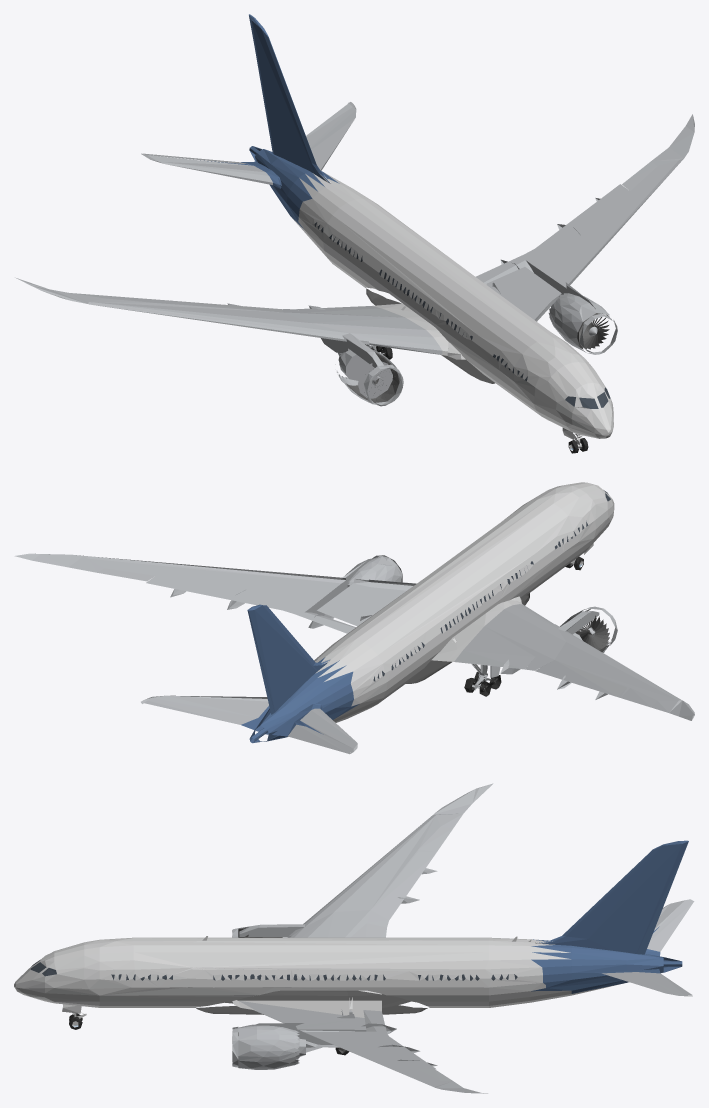
File: northstar-air.glb
3 views of the same model, one above another, from view 1: azimuth 30°, elevation 25°; view 2: azimuth 150°, elevation 25°; view 3: azimuth 270°, elevation 25° (orthographic). The views are drawn at different scales.
Parts seen in each view (by area): view 1: northstar-air; view 2: northstar-air; view 3: northstar-air.
Boxes of the visible parts, <box> form: northstar-air: <box>15,14,694,453</box>; northstar-air: <box>14,482,694,754</box>; northstar-air: <box>14,783,694,1093</box>.
Bounding box in the file's own units: 60.87 × 17 × 56.63.
